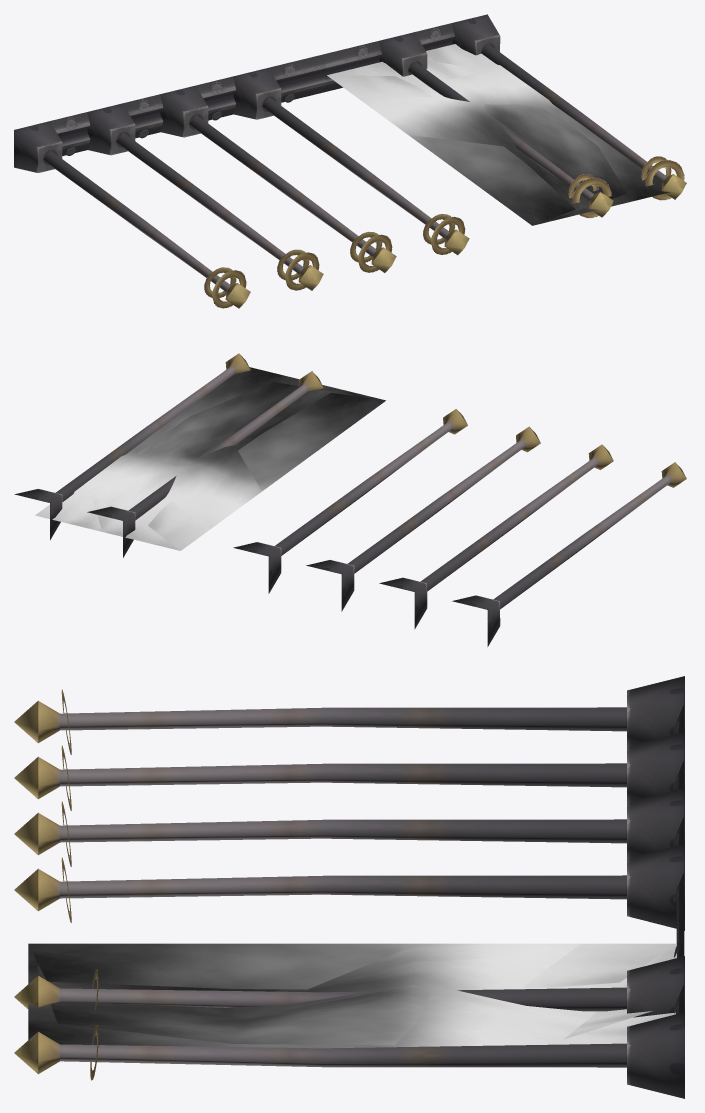
Rendered from compound_x3.glb.
3 renders of one model, top to bottom at view 1: azimuth 30°, elevation 25°; view 2: azimuth 150°, elevation 25°; view 3: azimuth 270°, elevation 25°, orthographic. The views are drawn at different scales.
Parts seen in each view (by area): view 1: forcefield.model_parts-MeshSets[mesh_endfull_floor].Mesh[0] (×3), forcefield.model_parts-MeshSets[mesh_pole].Mesh[0] (×3), forcefield.model_parts-MeshSets[mesh_wall(blue)].Mesh[0], forcefield.model_parts-MeshSets[mesh_end_wall(blue)].Mesh[0], forcefield.model_parts-MeshSets[mesh_endfull_wall(blue)].Mes, forcefield.model_parts-MeshSets[mesh_end_floor].Mesh[0] (×3); view 2: forcefield.model_parts-MeshSets[mesh_wall(blue)].Mesh[0], forcefield.model_parts-MeshSets[mesh_endfull_floor].Mesh[0] (×3), forcefield.model_parts-MeshSets[mesh_pole].Mesh[0] (×3), forcefield.model_parts-MeshSets[mesh_end_wall(blue)].Mesh[0], forcefield.model_parts-MeshSets[mesh_endfull_wall(blue)].Mes; view 3: forcefield.model_parts-MeshSets[mesh_endfull_floor].Mesh[0] (×3), forcefield.model_parts-MeshSets[mesh_pole].Mesh[0] (×3), forcefield.model_parts-MeshSets[mesh_wall(blue)].Mesh[0], forcefield.model_parts-MeshSets[mesh_end_wall(blue)].Mesh[0], forcefield.model_parts-MeshSets[mesh_endfull_wall(blue)].Mes.
Part boxes in pixels (x1=…): forcefield.model_parts-MeshSets[mesh_endfull_floor].Mesh[0] (×3): x1=14, y1=14, x2=686, y2=308; forcefield.model_parts-MeshSets[mesh_pole].Mesh[0] (×3): x1=87, y1=32, x2=613, y2=290; forcefield.model_parts-MeshSets[mesh_wall(blue)].Mesh[0]: x1=331, y1=44, x2=670, y2=224; forcefield.model_parts-MeshSets[mesh_end_wall(blue)].Mesh[0]: x1=327, y1=75, x2=575, y2=225; forcefield.model_parts-MeshSets[mesh_endfull_wall(blue)].Mes: x1=327, y1=60, x2=627, y2=224; forcefield.model_parts-MeshSets[mesh_end_floor].Mesh[0] (×3): x1=105, y1=36, x2=396, y2=138; forcefield.model_parts-MeshSets[mesh_wall(blue)].Mesh[0]: x1=35, y1=367, x2=384, y2=550; forcefield.model_parts-MeshSets[mesh_endfull_floor].Mesh[0] (×3): x1=14, y1=353, x2=686, y2=646; forcefield.model_parts-MeshSets[mesh_pole].Mesh[0] (×3): x1=87, y1=371, x2=613, y2=629; forcefield.model_parts-MeshSets[mesh_end_wall(blue)].Mesh[0]: x1=148, y1=392, x2=385, y2=550; forcefield.model_parts-MeshSets[mesh_endfull_wall(blue)].Mes: x1=91, y1=382, x2=379, y2=550; forcefield.model_parts-MeshSets[mesh_endfull_floor].Mesh[0] (×3): x1=14, y1=676, x2=684, y2=1098; forcefield.model_parts-MeshSets[mesh_pole].Mesh[0] (×3): x1=14, y1=732, x2=684, y2=1017; forcefield.model_parts-MeshSets[mesh_wall(blue)].Mesh[0]: x1=28, y1=943, x2=675, y2=1048; forcefield.model_parts-MeshSets[mesh_end_wall(blue)].Mesh[0]: x1=29, y1=943, x2=674, y2=989; forcefield.model_parts-MeshSets[mesh_endfull_wall(blue)].Mes: x1=29, y1=944, x2=675, y2=1045.
Size of the model in its own units: 3.31 by 0.3408 by 2.55.
Materials: 2 (2 with a texture image).
